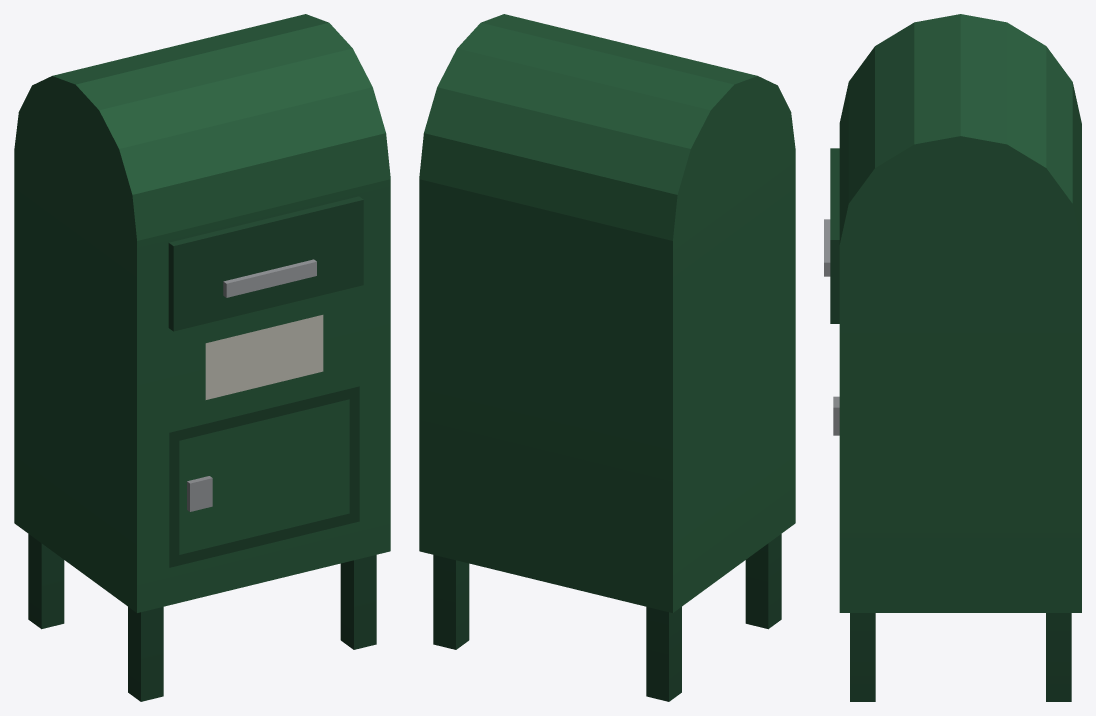
Rendered from street.mailbox.green.glb.
3 renders of one model, left to right at view 1: azimuth 30°, elevation 25°; view 2: azimuth 150°, elevation 25°; view 3: azimuth 270°, elevation 25°, orthographic.
Parts seen in each view (by area): view 1: street_mailbox_green; view 2: street_mailbox_green; view 3: street_mailbox_green.
Part boxes in pixels (left/top/right/bottom): street_mailbox_green: left=14, top=14, right=390, bottom=701; street_mailbox_green: left=419, top=14, right=795, bottom=701; street_mailbox_green: left=824, top=14, right=1081, bottom=701.
Size of what is drawn, in the model's own units: 0.56 by 1.22 by 0.5.
